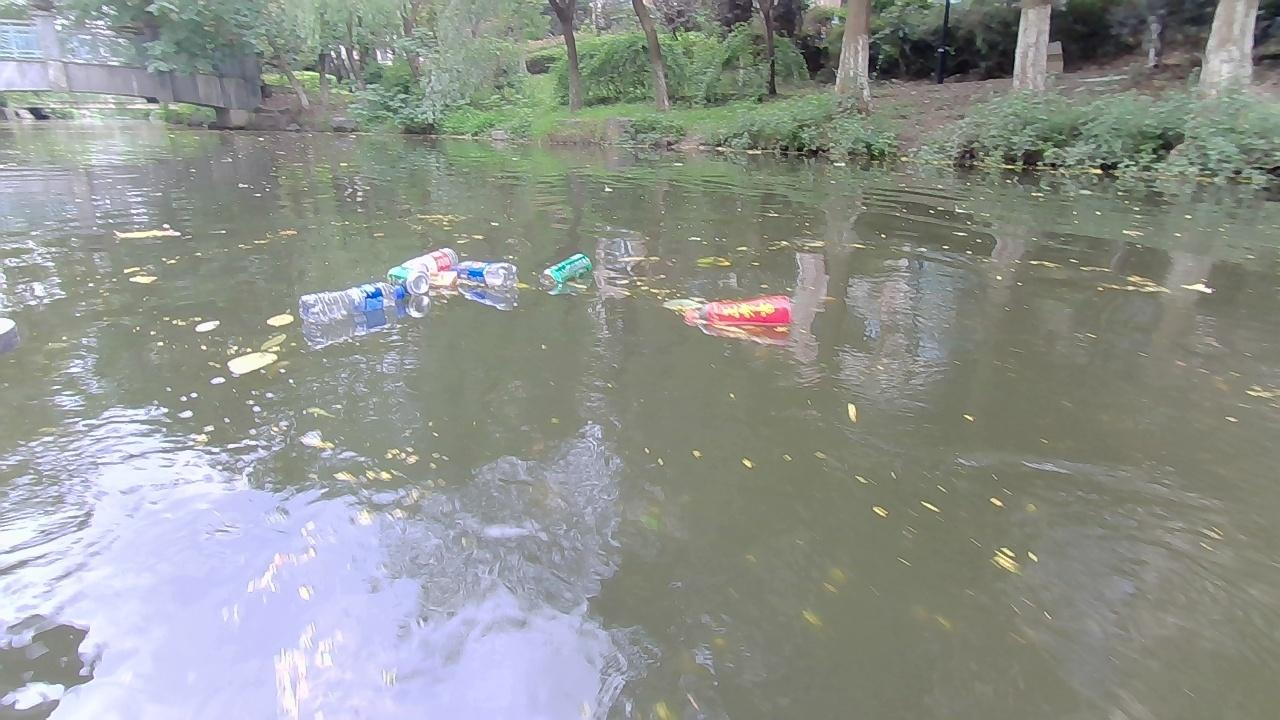bottle: (294, 284, 408, 322), (679, 295, 792, 330), (536, 252, 595, 291), (398, 244, 458, 280), (448, 260, 516, 284), (380, 268, 428, 295)
